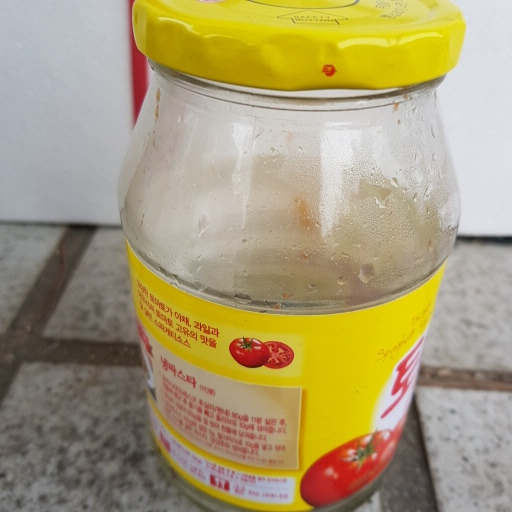Glass_5: (120, 1, 466, 512)
